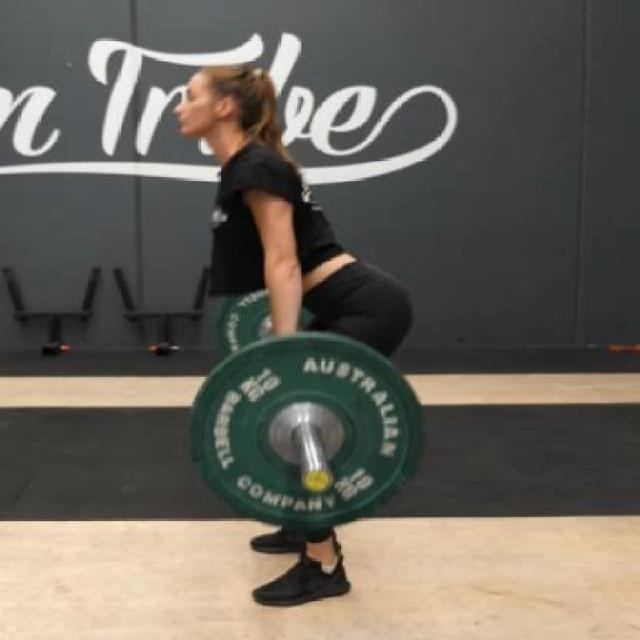barbell: (174, 326, 434, 539)
